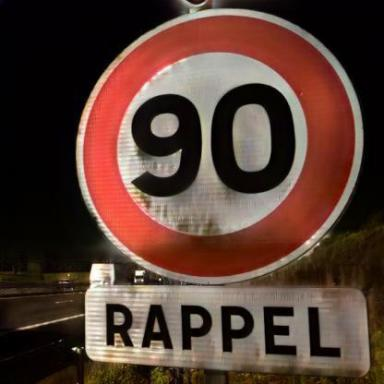Speed_limit_90: (71, 10, 365, 289)
